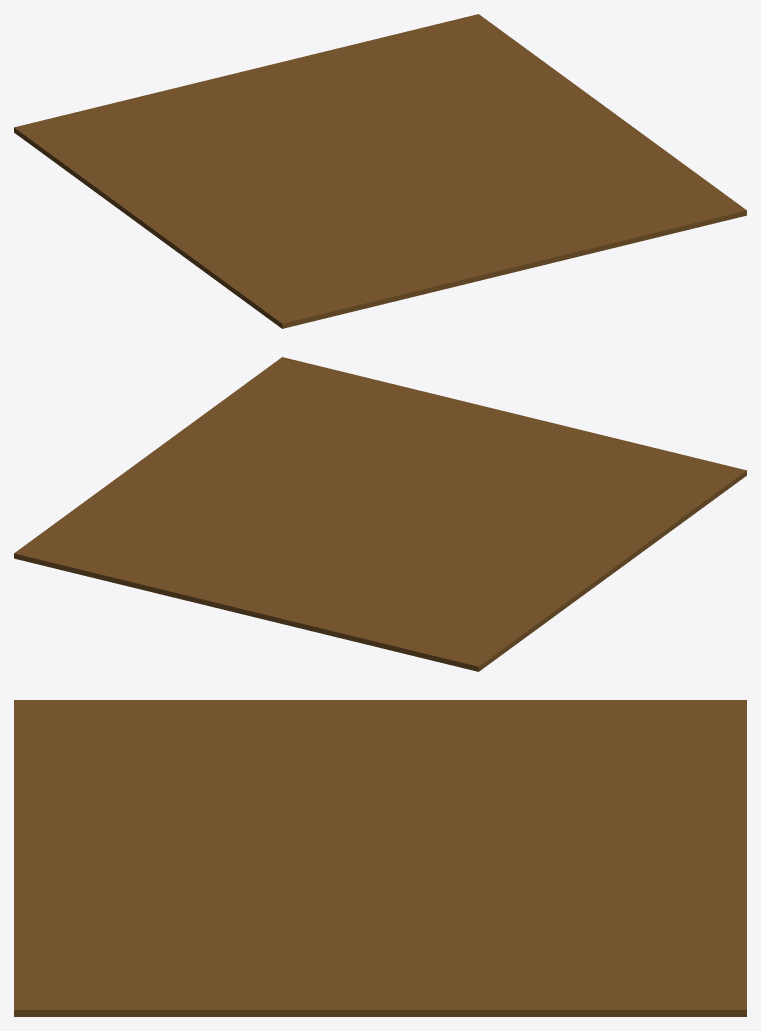
Rendered from SM_Bridge2.fbx.
3 renders of one model, top to bottom at view 1: azimuth 30°, elevation 25°; view 2: azimuth 150°, elevation 25°; view 3: azimuth 270°, elevation 25°, orthographic. The views are drawn at different scales.
Visible parts, largest first — view 1: SM_Bridge2; view 2: SM_Bridge2; view 3: SM_Bridge2.
Part boxes in pixels (x1=…): SM_Bridge2: x1=14, y1=14, x2=746, y2=328; SM_Bridge2: x1=14, y1=357, x2=746, y2=671; SM_Bridge2: x1=14, y1=700, x2=746, y2=1016.
Bounding box in the file's own units: 316 × 3.36 × 316.
